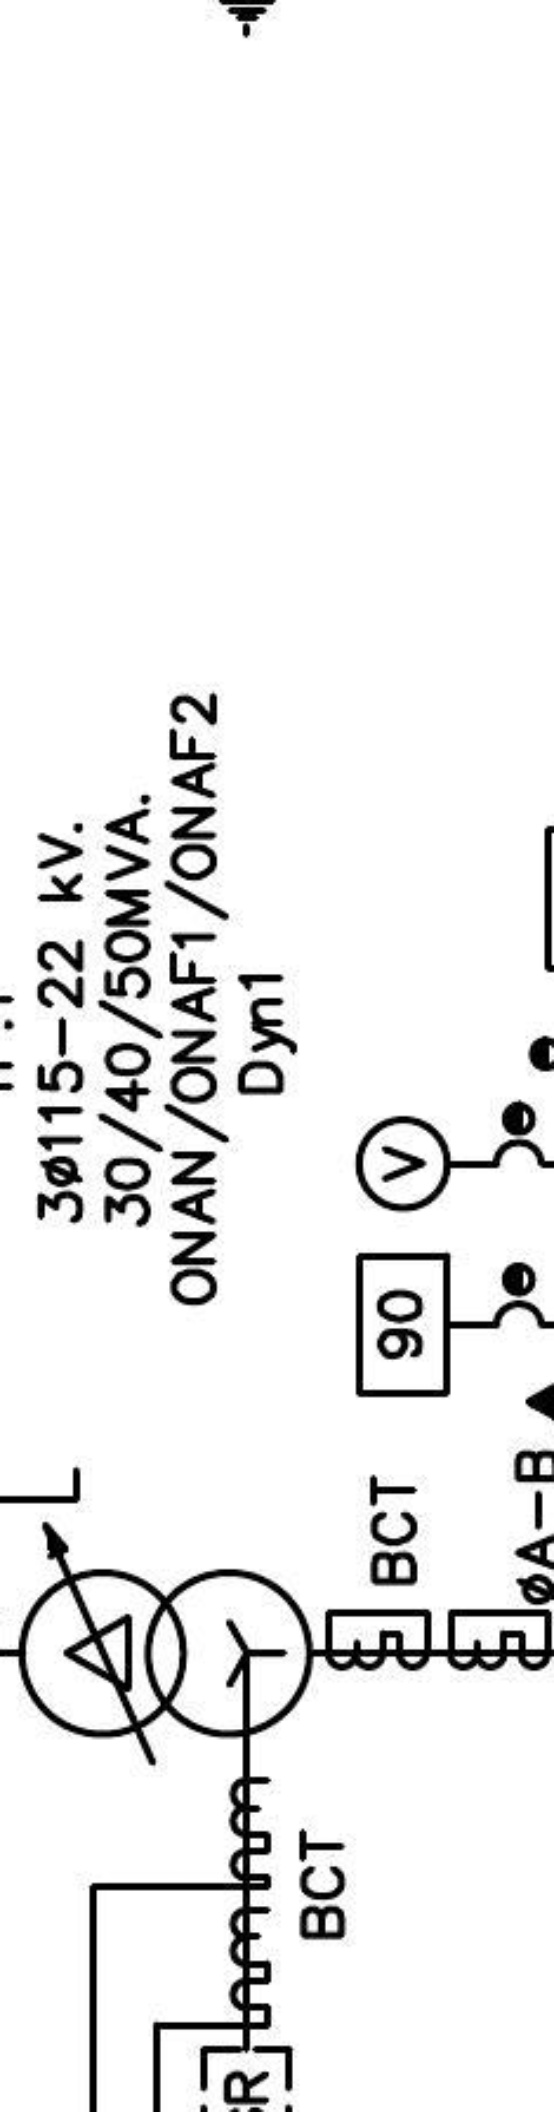11522_tx_dyn1: (18, 1566, 315, 1740)
v_m: (353, 1114, 453, 1215)
